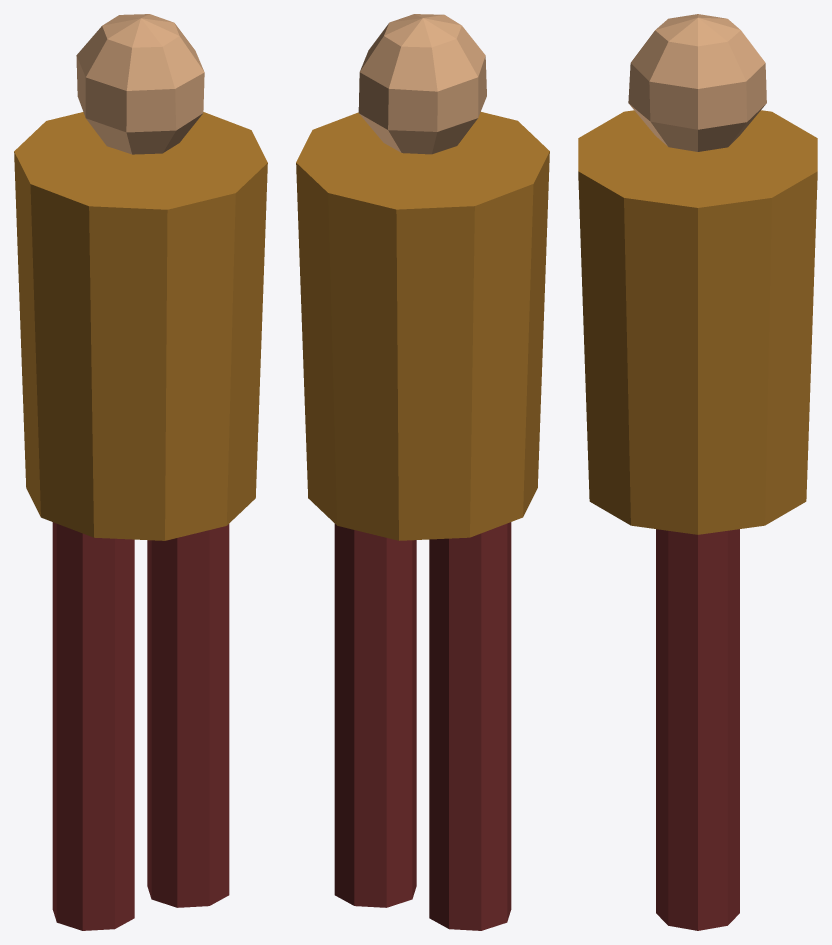
The model's file is Person4.glb.
The picture shows the model from 3 angles, left to right: view 1: azimuth 30°, elevation 25°; view 2: azimuth 150°, elevation 25°; view 3: azimuth 270°, elevation 25°; orthographic projection.
Parts seen in each view (by area): view 1: Person4; view 2: Person4; view 3: Person4.
Part boxes in pixels (x1=…): Person4: x1=14, y1=14, x2=267, y2=930; Person4: x1=296, y1=14, x2=549, y2=930; Person4: x1=578, y1=14, x2=817, y2=930.
Bounding box in the file's own units: 0.42 × 1.61 × 0.3994.
